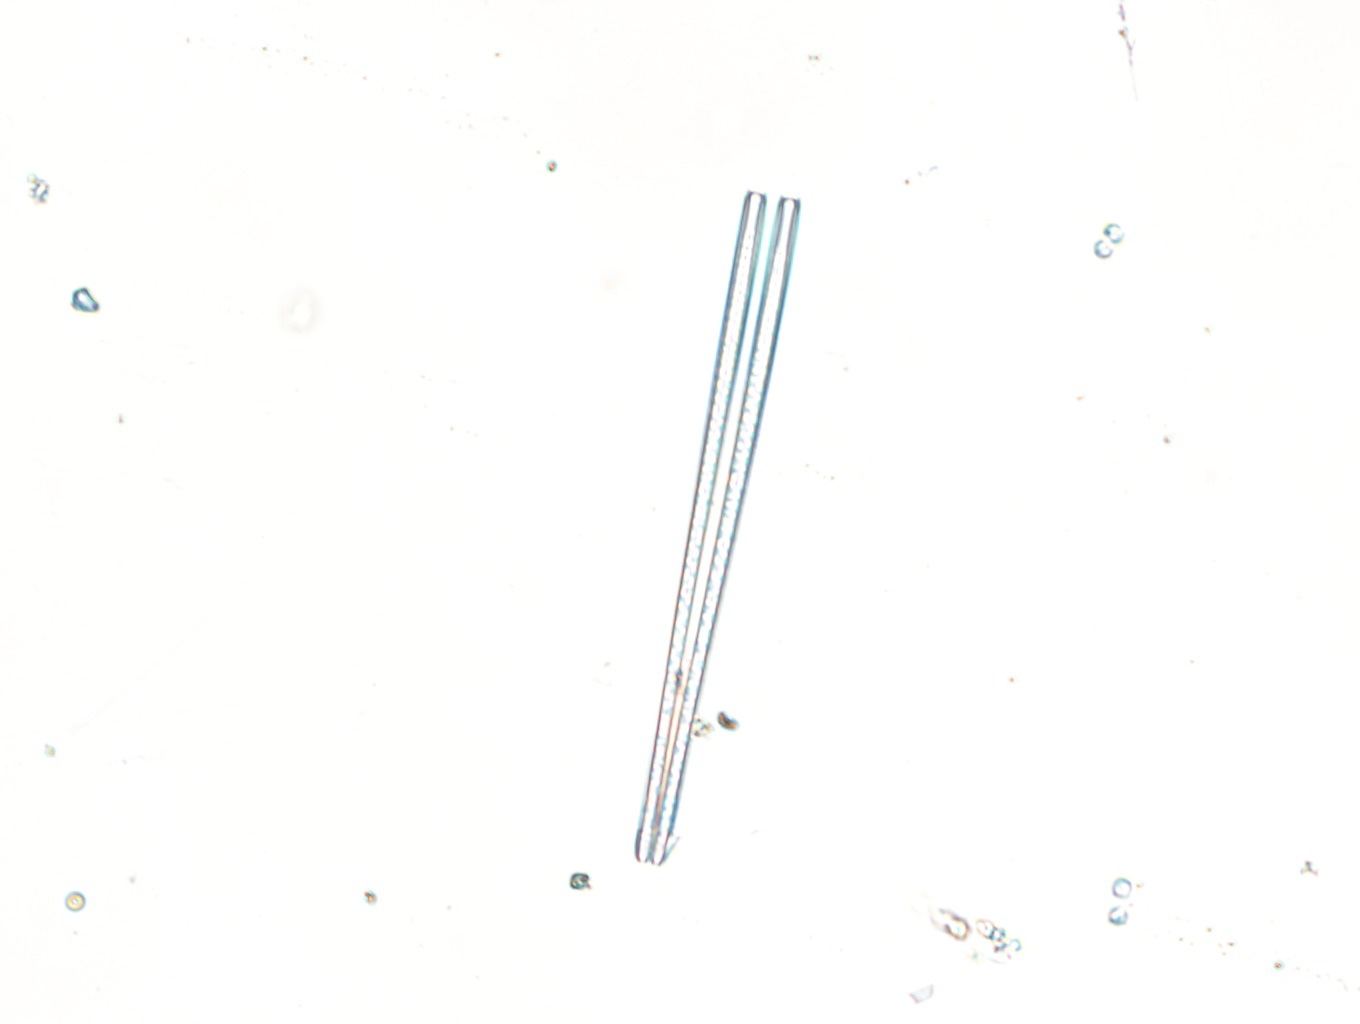thalassionema frauenfeldii: (634, 190, 801, 866)
